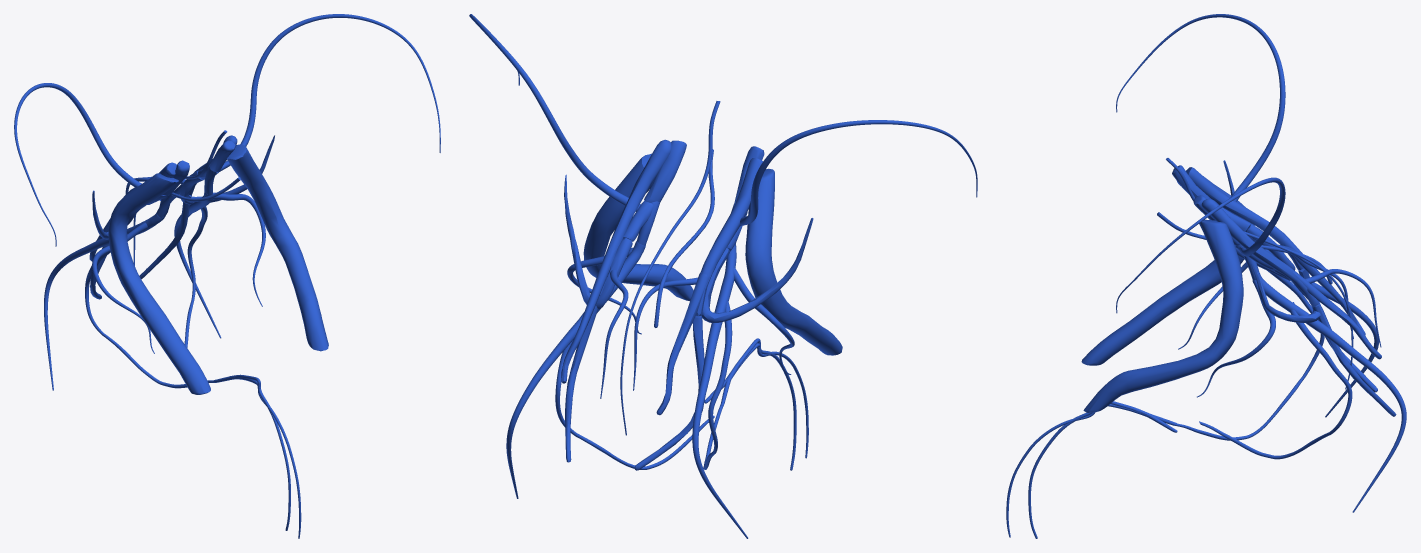
File: veins.pelvis.glb
The picture shows the model from 3 angles, left to right: view 1: azimuth 30°, elevation 25°; view 2: azimuth 150°, elevation 25°; view 3: azimuth 270°, elevation 25°; orthographic projection. The views are drawn at different scales.
Visible parts, largest first — view 1: right_external_iliac_vein, left_external_iliac_vein, left_iliolumbar_vein, right_iliolumbar_vein, right_inferior_gluteal_vein, right_internal_iliac_vein, left_internal_iliac_vein, right_internal_pudendal_vein, right_obturator_vein, left_inferior_gluteal_vein, left_internal_pudendal_vein, left_superior_gluteal_vein (+3 smaller); view 2: left_external_iliac_vein, right_internal_iliac_vein, right_external_iliac_vein, left_internal_iliac_vein, right_inferior_gluteal_vein, left_inferior_gluteal_vein, right_iliolumbar_vein, left_iliolumbar_vein, right_superior_gluteal_vein, left_superior_gluteal_vein, median_sacral_vein, right_internal_pudendal_vein (+7 smaller); view 3: left_external_iliac_vein, right_external_iliac_vein, left_internal_iliac_vein, right_internal_iliac_vein, left_inferior_gluteal_vein, right_iliolumbar_vein, left_internal_pudendal_vein, left_iliolumbar_vein, right_internal_pudendal_vein, deep_dorsal_vein_of_penis, right_inferior_gluteal_vein, left_superior_gluteal_vein (+5 smaller).
Part boxes in pixels (bbox=[...]): right_external_iliac_vein: bbox=[108, 173, 210, 394]; left_external_iliac_vein: bbox=[197, 140, 328, 351]; left_iliolumbar_vein: bbox=[219, 14, 440, 171]; right_iliolumbar_vein: bbox=[14, 83, 160, 246]; right_inferior_gluteal_vein: bbox=[44, 213, 163, 390]; right_internal_iliac_vein: bbox=[89, 160, 189, 299]; left_internal_iliac_vein: bbox=[139, 135, 237, 279]; right_internal_pudendal_vein: bbox=[85, 233, 216, 388]; right_obturator_vein: bbox=[92, 222, 154, 353]; left_inferior_gluteal_vein: bbox=[174, 192, 221, 338]; left_internal_pudendal_vein: bbox=[184, 206, 207, 347]; left_superior_gluteal_vein: bbox=[180, 135, 274, 204]; left_external_iliac_vein: bbox=[583, 140, 693, 301]; right_internal_iliac_vein: bbox=[634, 146, 764, 470]; right_external_iliac_vein: bbox=[745, 168, 842, 355]; left_internal_iliac_vein: bbox=[561, 139, 671, 462]; right_inferior_gluteal_vein: bbox=[692, 246, 748, 538]; left_inferior_gluteal_vein: bbox=[506, 241, 645, 498]; right_iliolumbar_vein: bbox=[740, 120, 977, 226]; left_iliolumbar_vein: bbox=[469, 14, 640, 211]; right_superior_gluteal_vein: bbox=[702, 218, 813, 322]; left_superior_gluteal_vein: bbox=[564, 174, 632, 309]; median_sacral_vein: bbox=[620, 101, 720, 435]; right_internal_pudendal_vein: bbox=[703, 301, 732, 469]; left_external_iliac_vein: bbox=[1083, 195, 1273, 412]; right_external_iliac_vein: bbox=[1081, 176, 1254, 365]; left_internal_iliac_vein: bbox=[1201, 198, 1396, 416]; right_internal_iliac_vein: bbox=[1172, 165, 1377, 392]; left_inferior_gluteal_vein: bbox=[1255, 272, 1406, 512]; right_iliolumbar_vein: bbox=[1116, 14, 1285, 201]; left_internal_pudendal_vein: bbox=[1199, 302, 1352, 459]; left_iliolumbar_vein: bbox=[1116, 177, 1285, 313]; right_internal_pudendal_vein: bbox=[1173, 270, 1324, 440]; deep_dorsal_vein_of_penis: bbox=[1028, 401, 1177, 538]; right_inferior_gluteal_vein: bbox=[1235, 245, 1378, 417]; left_superior_gluteal_vein: bbox=[1251, 263, 1320, 322].
Bounding box in the file's own units: 0.2558 × 0.2462 × 0.2057.
